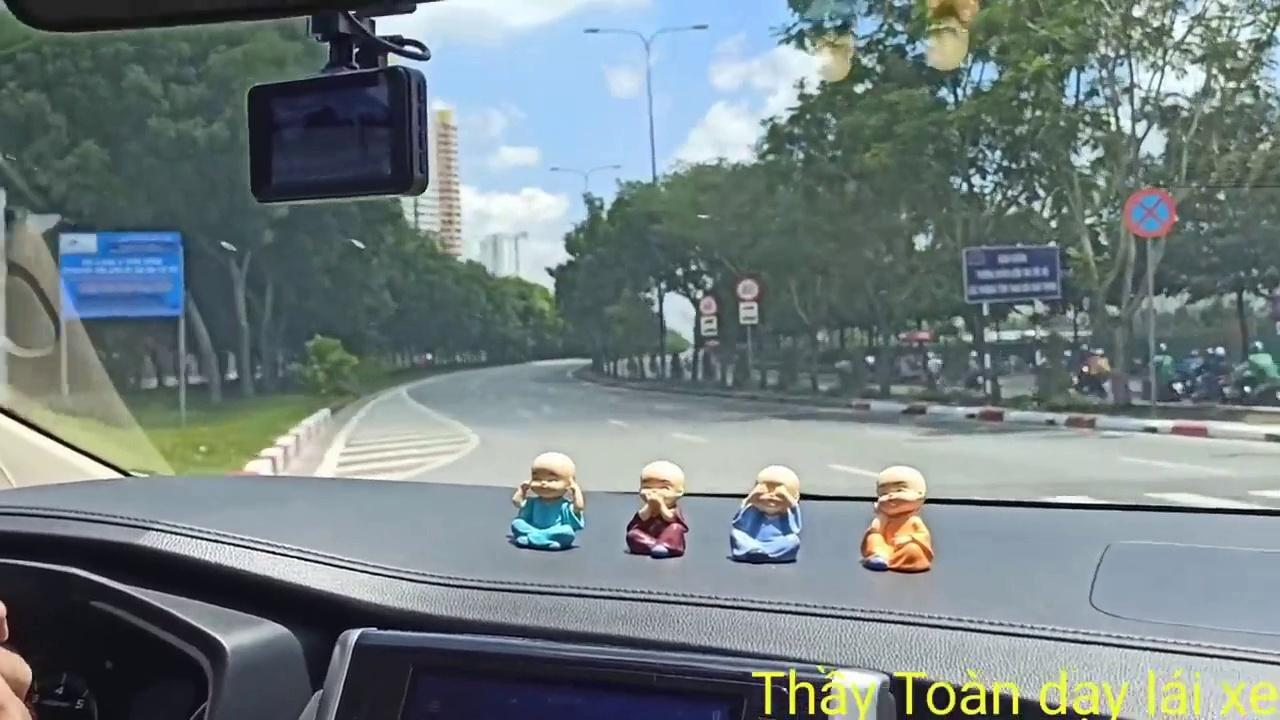Biển phụ: (738, 302, 758, 326), (701, 316, 718, 336)
Cấm dừng - Cấm đỗ: (1124, 187, 1176, 238)
GIơi hạn tốc độ 60Km/h: (699, 296, 717, 314)
Giới hạn tốc độ 80Km/h: (736, 278, 759, 300)
Khác: (57, 231, 185, 318)
